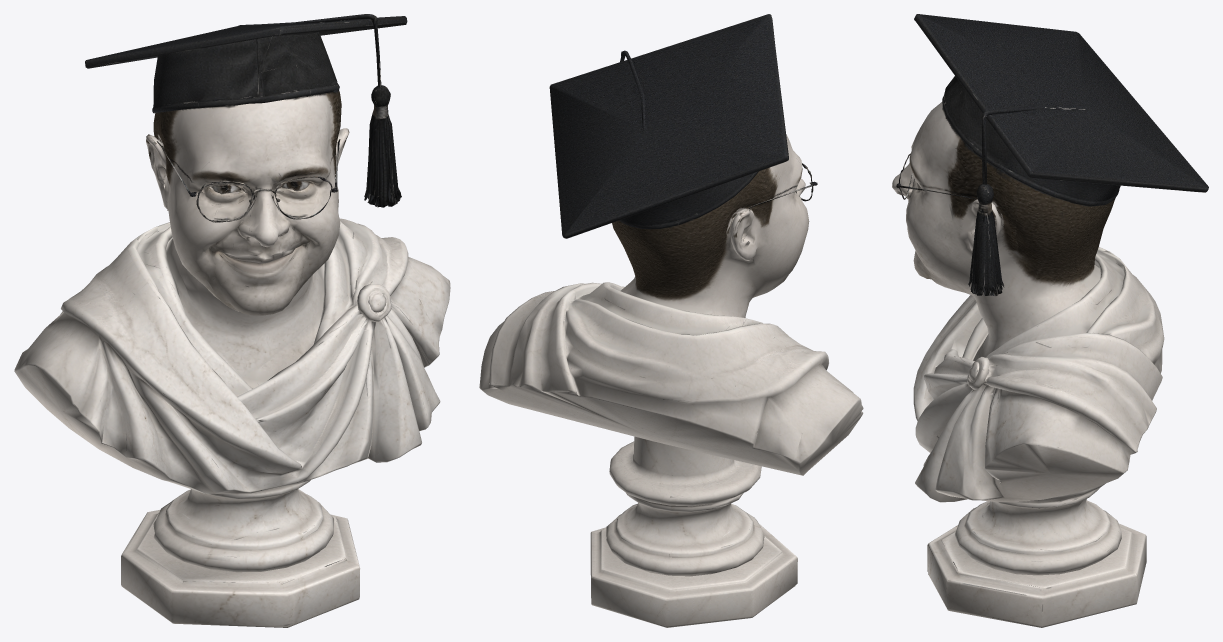
File: academia_avatar.glb
3 renders of one model, left to right at view 1: azimuth 30°, elevation 25°; view 2: azimuth 150°, elevation 25°; view 3: azimuth 270°, elevation 25°, orthographic. The views are drawn at different scales.
Bounding box in the file's own units: 0.667 × 0.9521 × 0.4937.
Materials: 1 (1 with a texture image).
